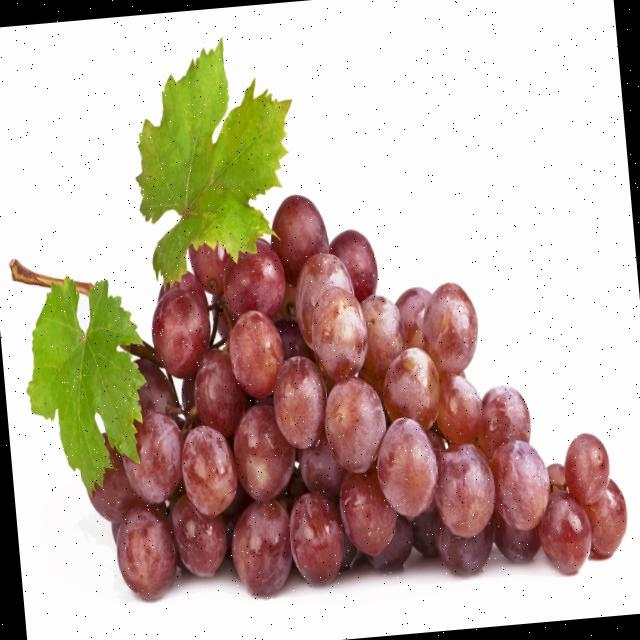grape: (94, 195, 625, 597)
